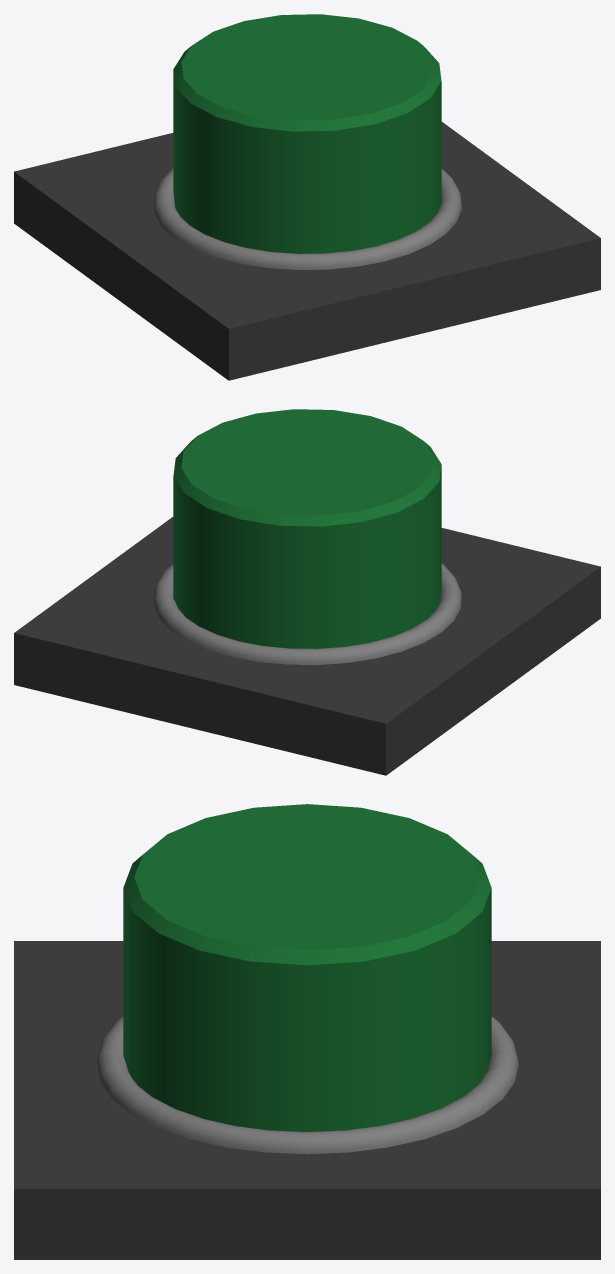
The model's file is greenButton.dae.
3 renders of one model, top to bottom at view 1: azimuth 30°, elevation 25°; view 2: azimuth 150°, elevation 25°; view 3: azimuth 270°, elevation 25°, orthographic. The views are drawn at different scales.
Visible parts, largest first — view 1: buttonBase, button, buttonRim; view 2: buttonBase, button, buttonRim; view 3: buttonBase, button, buttonRim.
Boxes of the visible parts, x1,y1,x2,y2 form: buttonBase: (14, 122, 600, 380); button: (173, 14, 441, 253); buttonRim: (153, 168, 461, 269); buttonBase: (14, 517, 600, 775); button: (173, 409, 441, 648); buttonRim: (153, 563, 461, 664); buttonBase: (14, 941, 600, 1259); button: (123, 804, 491, 1131); buttonRim: (96, 1016, 518, 1154).
Bounding box in the file's own units: 1.5 × 0.7291 × 1.5.
